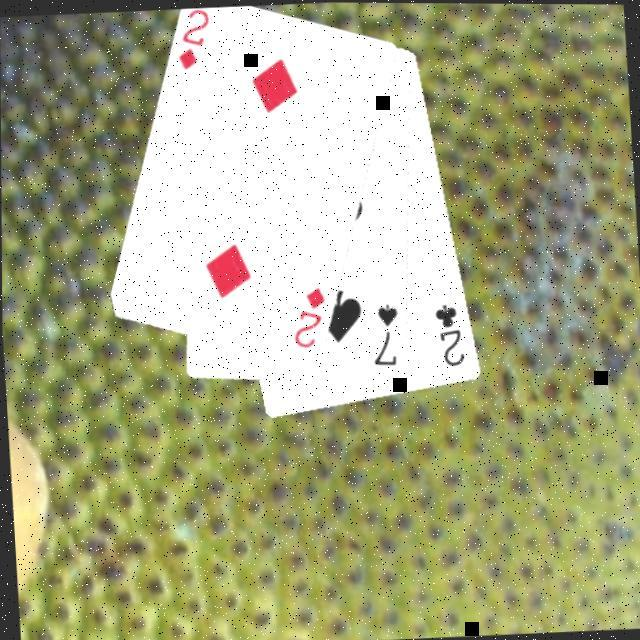2C: (432, 298, 470, 368)
2D: (289, 280, 333, 350), (175, 6, 218, 72)
7S: (369, 298, 406, 368)
